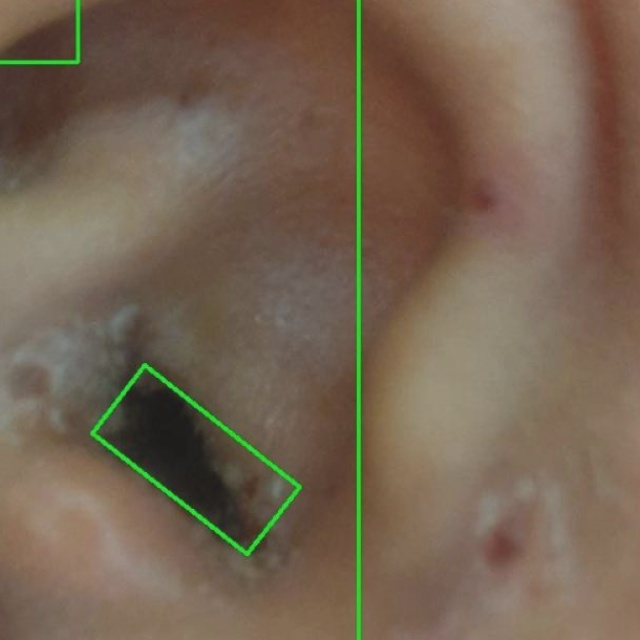Contact Dermatitis: (357, 0, 639, 639), (91, 366, 299, 554), (0, 0, 78, 62)
